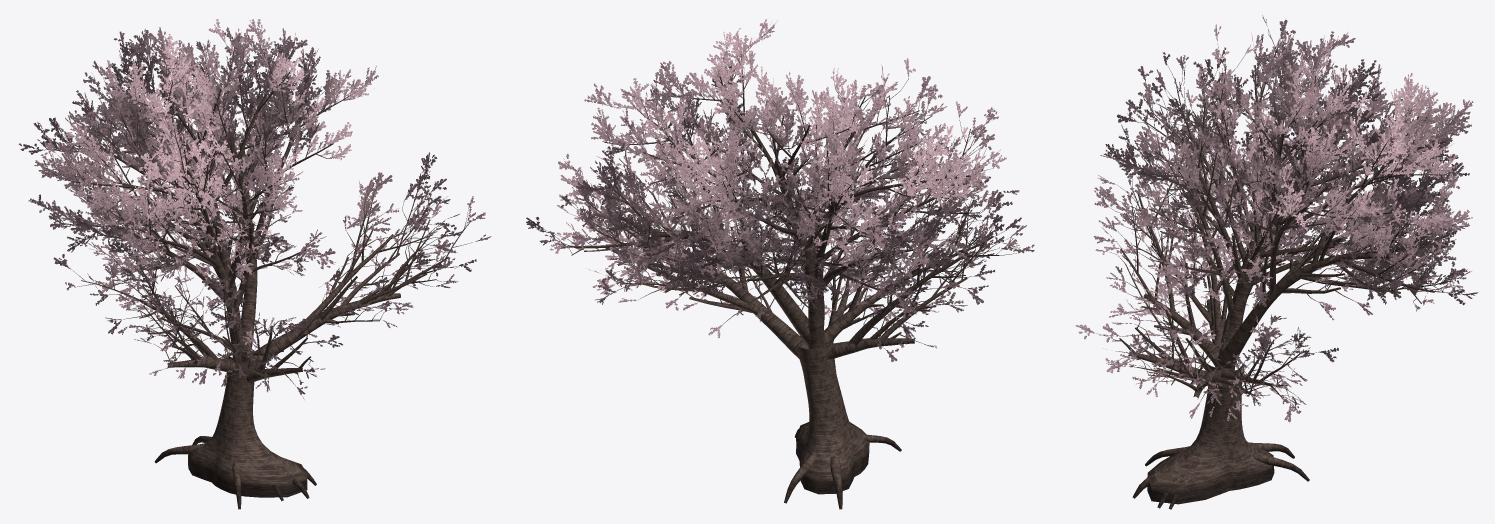
The model's file is tree_sakura.glb.
3 views of the same model, side by side, from view 1: azimuth 30°, elevation 25°; view 2: azimuth 150°, elevation 25°; view 3: azimuth 270°, elevation 25° (orthographic). The views are drawn at different scales.
Parts seen in each view (by area): view 1: sakura_blossom, sakura_trunk; view 2: sakura_blossom, sakura_trunk; view 3: sakura_blossom, sakura_trunk.
Boxes of the visible parts, left/top/right/bottom form: sakura_blossom: left=18, top=19, right=491, bottom=399; sakura_trunk: left=34, top=40, right=472, bottom=509; sakura_blossom: left=526, top=19, right=1034, bottom=361; sakura_trunk: left=546, top=34, right=1018, bottom=509; sakura_blossom: left=1075, top=15, right=1478, bottom=422; sakura_trunk: left=1097, top=28, right=1462, bottom=509.
Bounding box in the file's own units: 9.22 × 8.79 × 7.28.
2 materials, 2 textured.
